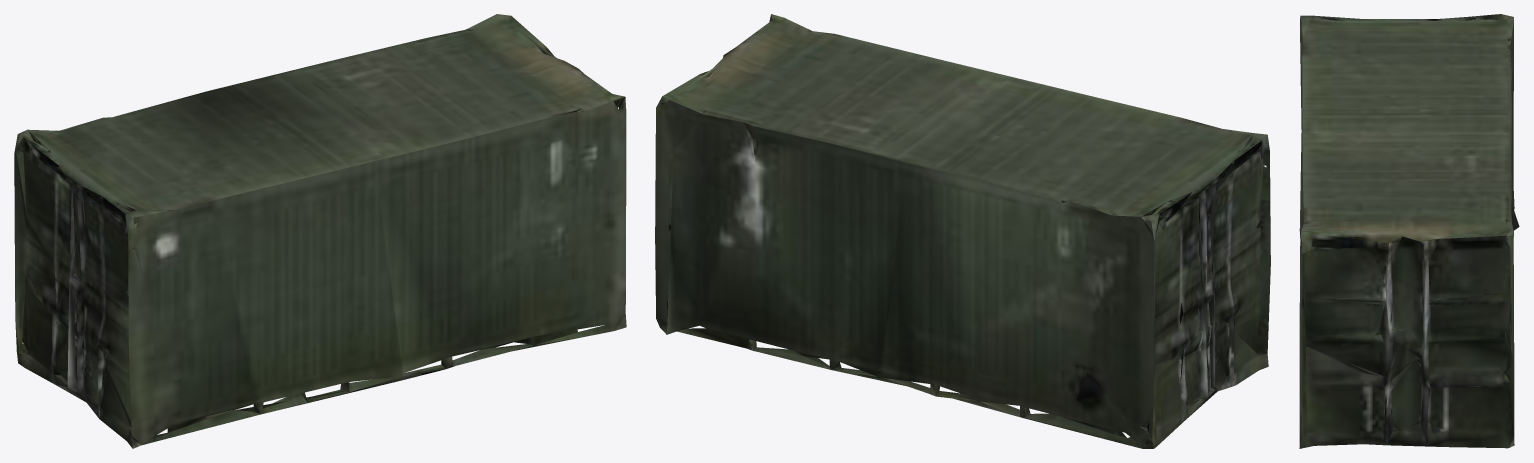
The model's file is container_273409974_lod0.glb.
The picture shows the model from 3 angles, left to right: view 1: azimuth 30°, elevation 25°; view 2: azimuth 150°, elevation 25°; view 3: azimuth 270°, elevation 25°; orthographic projection. The views are drawn at different scales.
Bounding box in the file's own units: 6 × 2.69 × 2.49.
1 material, 1 textured.
